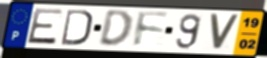9: (174, 13, 202, 50)
D: (97, 9, 134, 49), (59, 8, 94, 47)
E: (25, 7, 65, 46)
F: (132, 10, 171, 49)
V: (208, 13, 241, 53)
